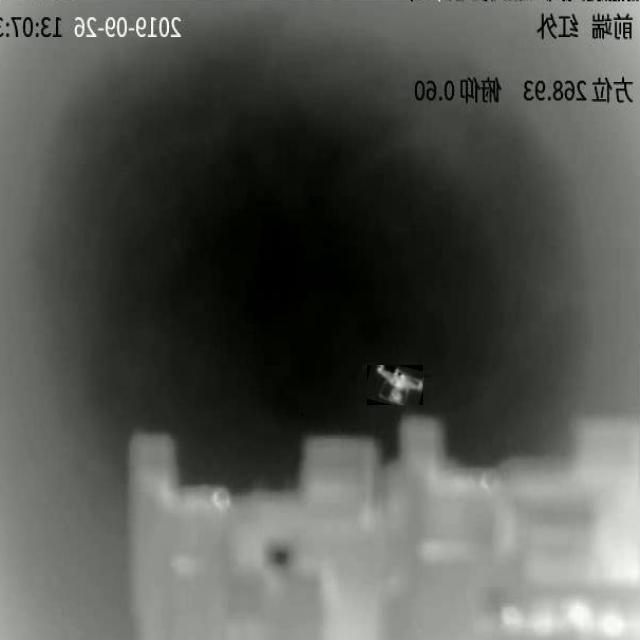drone: (376, 365, 423, 405)
